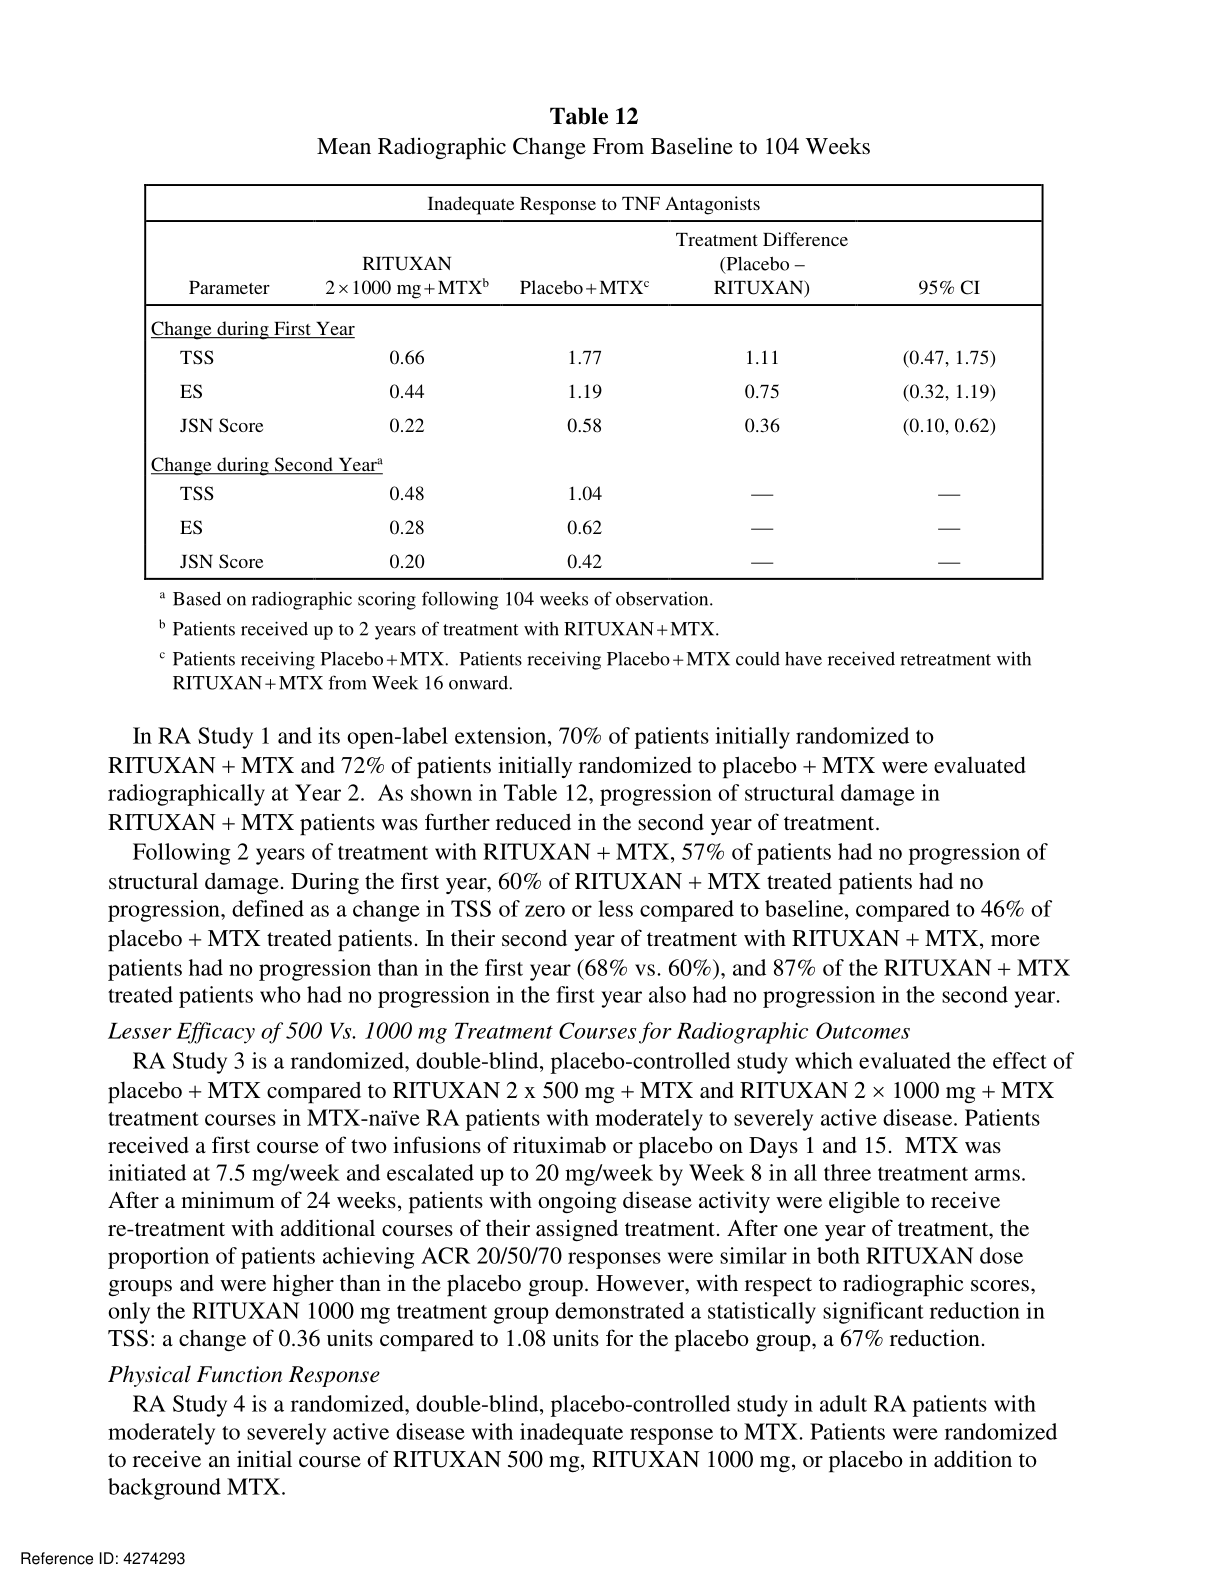partial_lined_merged_cells: (139, 177, 1050, 582)
